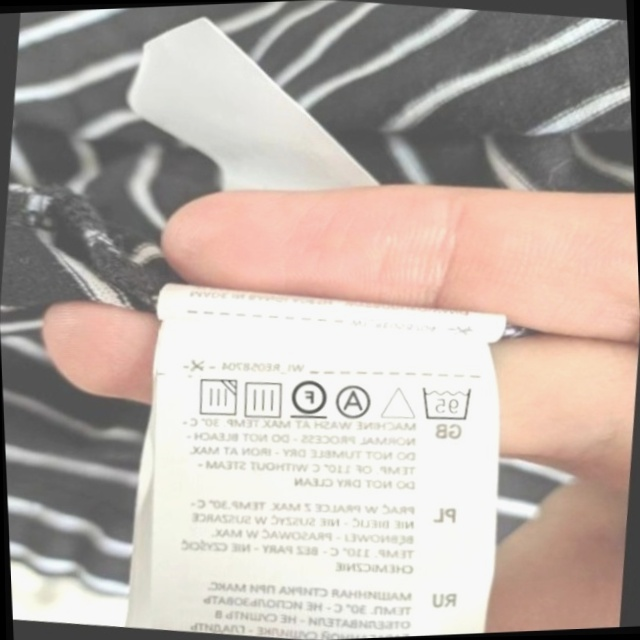95C: (415, 379, 477, 427)
bleach: (378, 379, 419, 425)
drip_dry: (238, 374, 288, 423)
drip_dry_in_shade: (190, 372, 241, 423)
dry_clean: (332, 380, 377, 423)
dry_clean_petrol_only: (286, 372, 332, 424)
